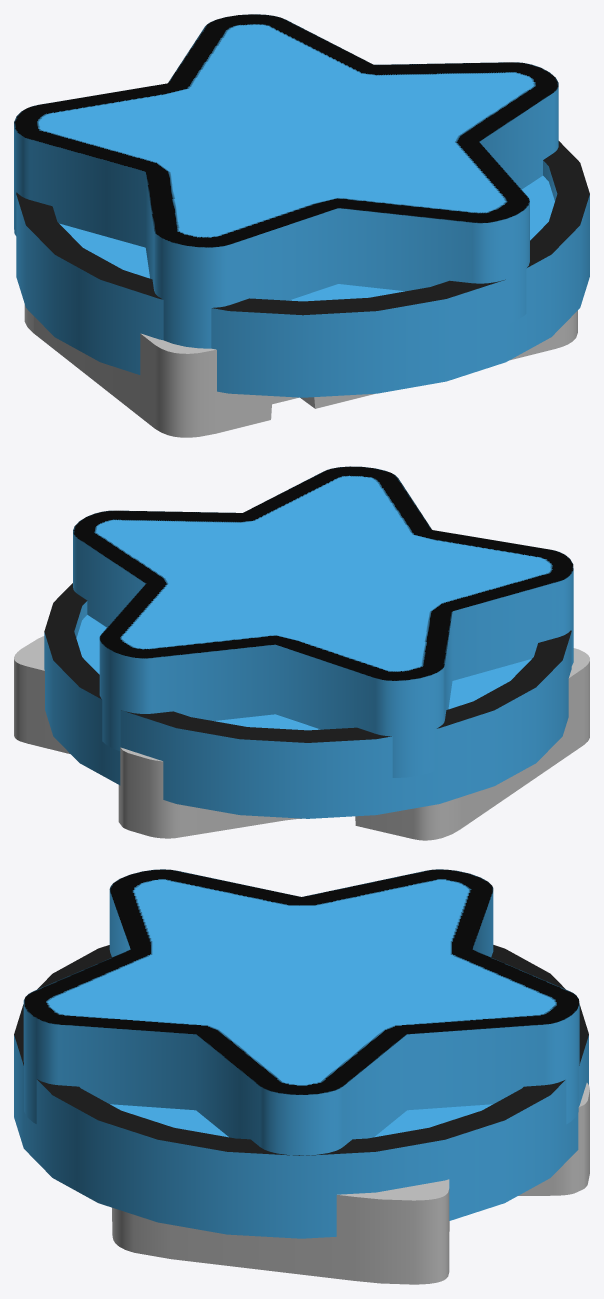
The model's file is coin_like_sub.fbx.
The picture shows the model from 3 angles, top to bottom: view 1: azimuth 30°, elevation 25°; view 2: azimuth 150°, elevation 25°; view 3: azimuth 270°, elevation 25°; orthographic projection. The views are drawn at different scales.
Visible parts, largest first — view 1: Mark, Coin, Like; view 2: Mark, Coin, Like; view 3: Mark, Coin, Like.
Boxes of the visible parts, x1,y1,x2,y2 form: Mark: (14, 14, 558, 348); Coin: (16, 141, 589, 397); Like: (24, 304, 577, 437); Mark: (73, 466, 573, 777); Coin: (44, 583, 571, 818); Like: (14, 636, 589, 840); Mark: (23, 869, 579, 1155); Coin: (14, 945, 588, 1238); Like: (112, 1083, 589, 1284).
Size of the model in its own units: 203 by 71.11 by 200.
